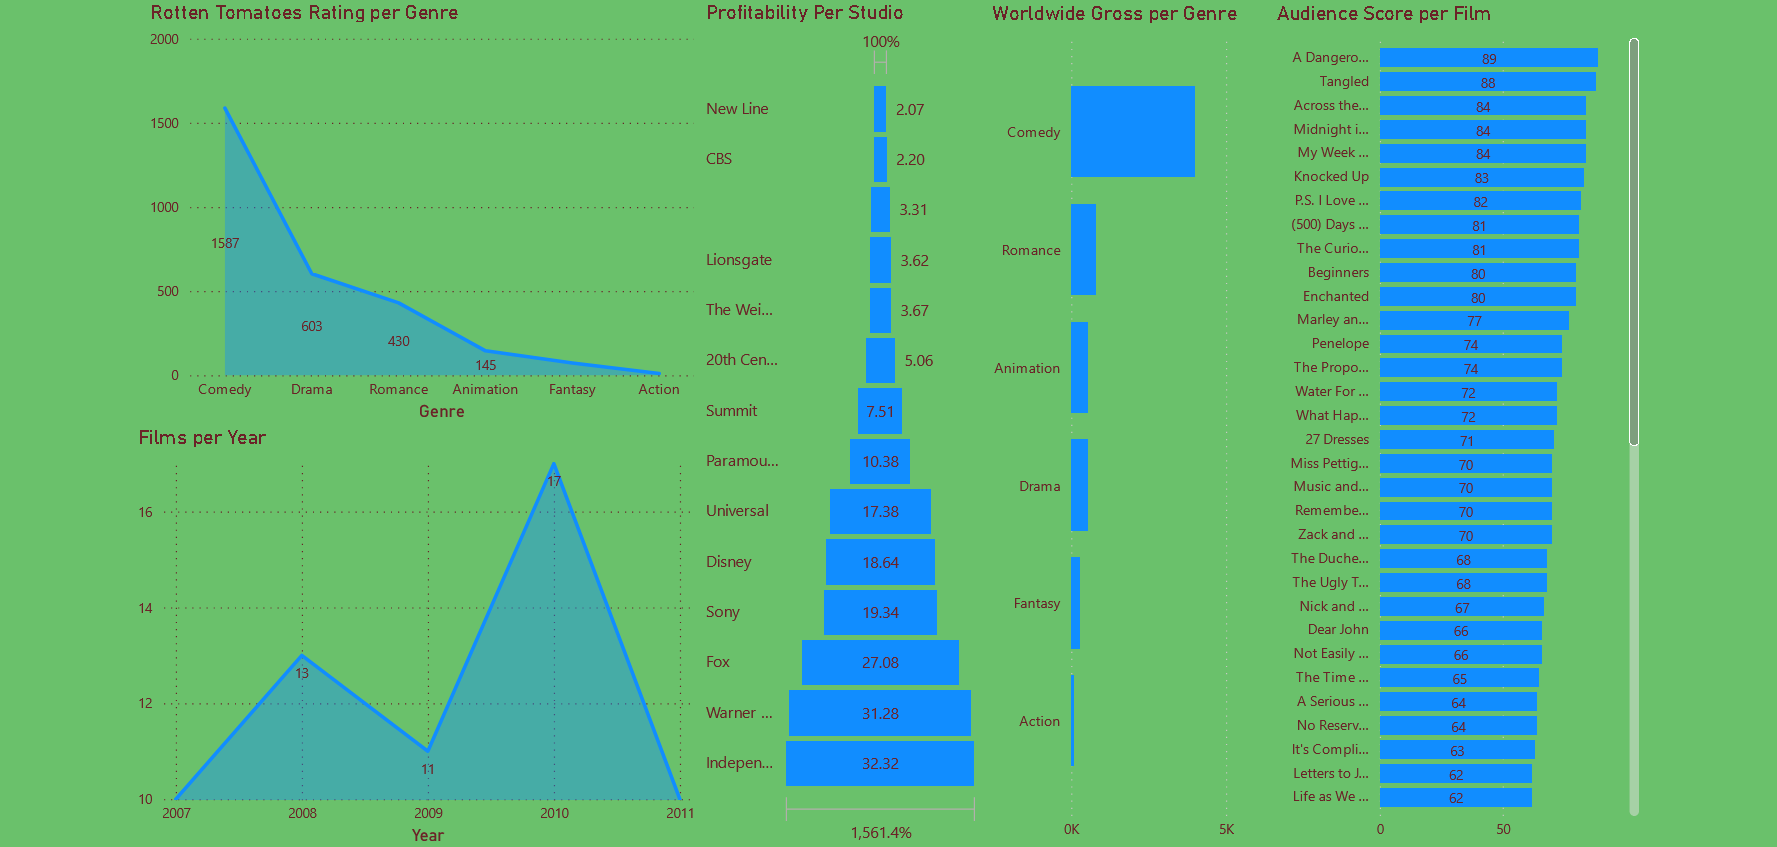

Layout of this report page (visuals, bound fields, positions):
{"tool":"powerbi","page":{"name":"Page 1","canvas":[1280,720],"ordinal":0},"visuals":[{"type":"stackedAreaChart","title":"Rotten Tomatoes Rating per Genre","fields":{"Category":["clean_df.Genre"],"Y":["clean_df.Rotten.Tomatoes.."]},"box":[10.2,0,470.3,360.8],"z":0},{"type":"stackedAreaChart","title":"Films per Year","fields":{"Category":["clean_df.Year"],"Y":["clean_df.Film"]},"box":[0,359.9,480.5,359.9],"z":1000},{"type":"clusteredBarChart","title":"Audience Score  per Film","fields":{"Y":["clean_df.Audience..score.."],"Category":["clean_df.Film"]},"box":[963.7,0.9,316.3,718.8],"z":2000},{"type":"funnel","title":"Profitability Per Studio","fields":{"Y":["clean_df.Profitability"],"Category":["clean_df.Lead.Studio"]},"box":[480.5,0,242.1,718.8],"z":2001},{"type":"barChart","title":"Worldwide Gross per Genre","fields":{"Y":["clean_df.Worldwide.Gross"],"Category":["clean_df.Genre"]},"box":[722.6,0.9,241.2,718.8],"z":2002}]}

Visuals, with their boxes on the page's 1280x720 design canvas (x1, y1, x2, y2). These are canvas units, not pixel positions in the 1777x847 screenshot, which may show the page scaled, cropped or inside an application window:
"Rotten Tomatoes Rating per Genre" stackedAreaChart: Rect(10, 0, 480, 361)
"Films per Year" stackedAreaChart: Rect(0, 360, 480, 720)
"Audience Score  per Film" clusteredBarChart: Rect(964, 1, 1280, 720)
"Profitability Per Studio" funnel: Rect(480, 0, 723, 719)
"Worldwide Gross per Genre" barChart: Rect(723, 1, 964, 720)
